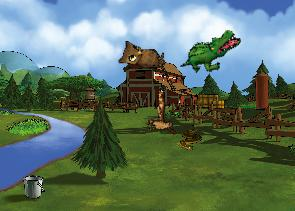crocodile: (178, 17, 243, 86)
eagle: (132, 87, 189, 146)
owl: (118, 39, 165, 68)
